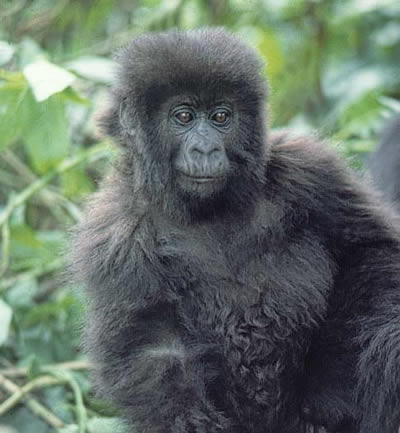Goriila: (89, 19, 391, 431)
